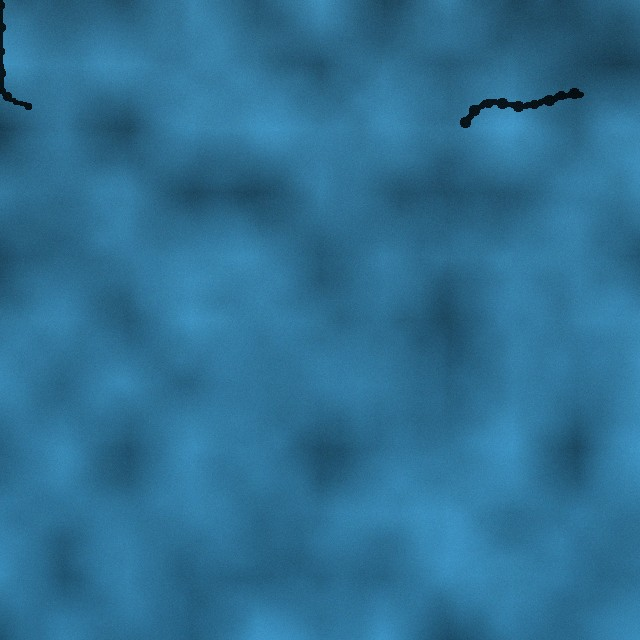crack: (460, 88, 586, 127), (0, 0, 32, 110)
